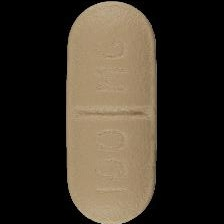67046-665: (0, 0, 224, 224)
